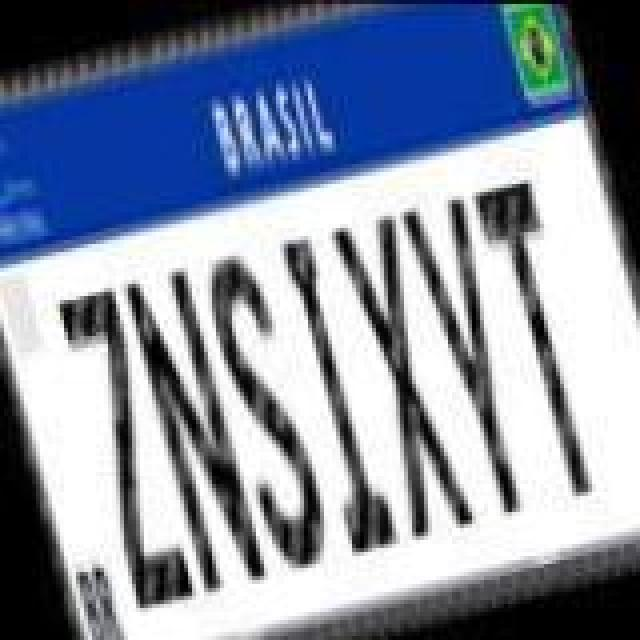I: (272, 226, 404, 562)
N: (120, 262, 268, 602)
S: (194, 240, 338, 580)
T: (474, 174, 614, 514)
X: (326, 208, 474, 544)
Y: (398, 190, 546, 530)
Z: (54, 284, 198, 620)
